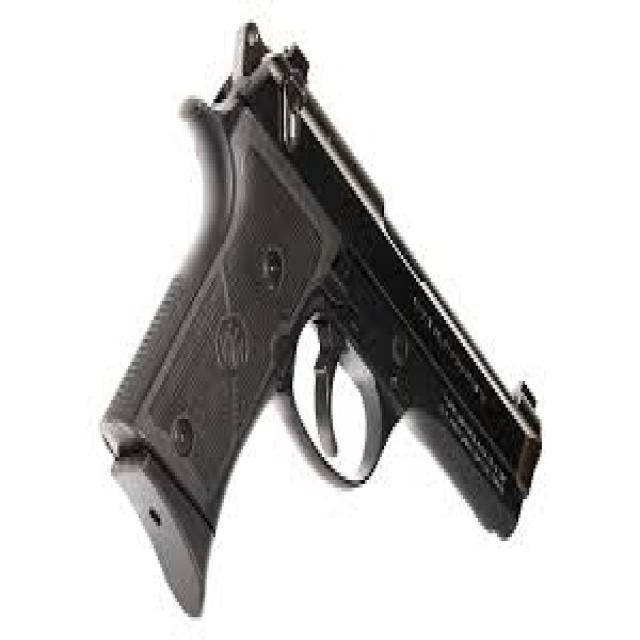pistol: (99, 9, 545, 627)
